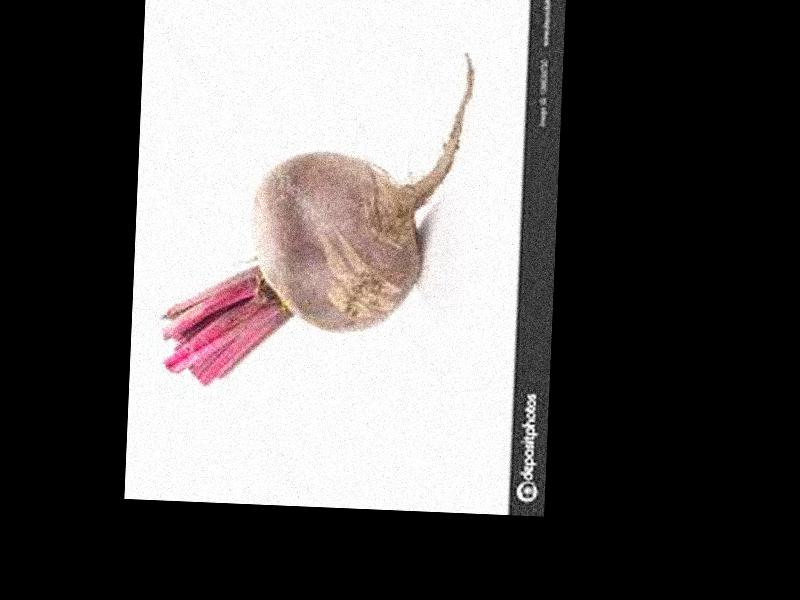Beet: (160, 40, 474, 393)
